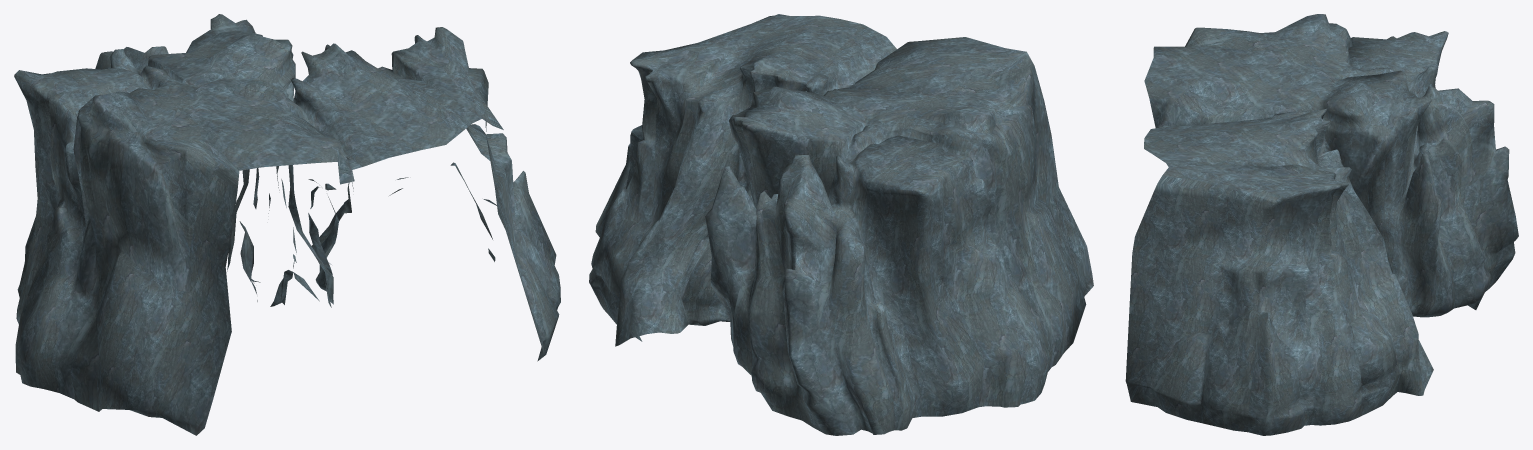
File: tesv_glaciercaveentrance01-transformed.glb
3 views of the same model, side by side, from view 1: azimuth 30°, elevation 25°; view 2: azimuth 150°, elevation 25°; view 3: azimuth 270°, elevation 25° (orthographic). The views are drawn at different scales.
Visible parts, largest first — view 1: glaciercaveentrance01; view 2: glaciercaveentrance01; view 3: glaciercaveentrance01.
Part boxes in pixels (x1,y1,x2,y2): glaciercaveentrance01: (14,14,560,435); glaciercaveentrance01: (589,14,1093,435); glaciercaveentrance01: (1125,14,1518,435).
Bounding box in the file's own units: 7.69 × 4.14 × 6.03.
1 material, 1 textured.
